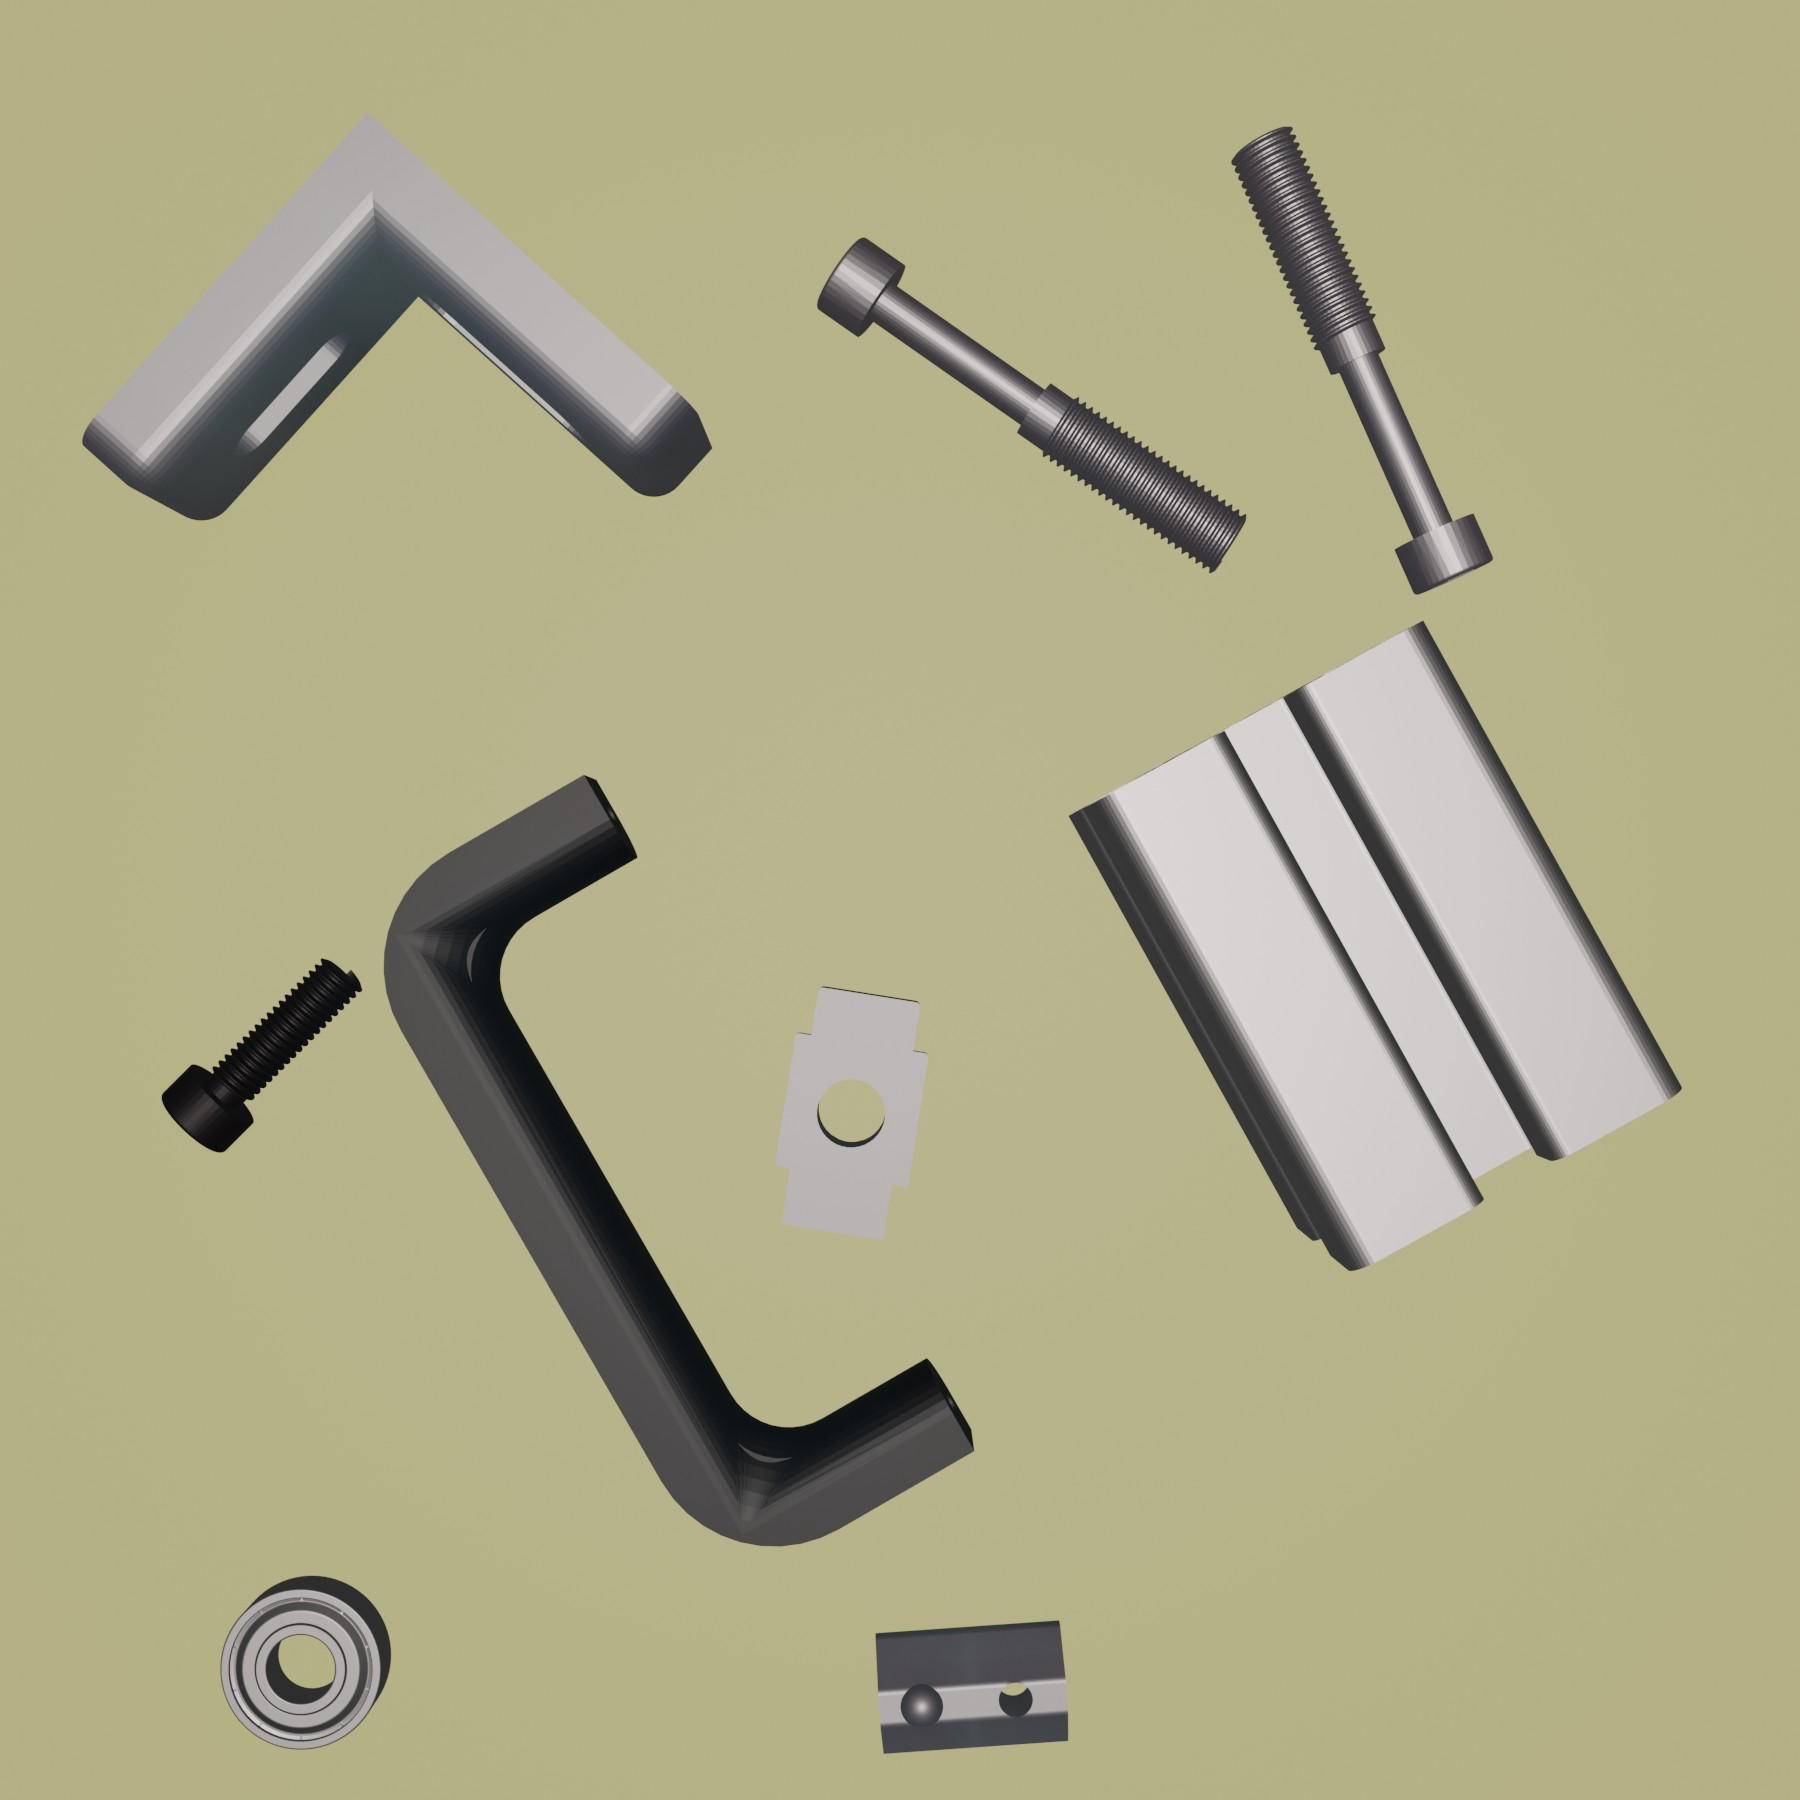Aluminium Extension: (1065, 620, 1683, 1273)
Ball Bearing: (216, 1574, 392, 1754)
Multiwinkel: (79, 107, 715, 523)
Pull Handle: (381, 775, 977, 1551)
Shoulder Socket Head Cap Screw: (814, 236, 1248, 575), (1226, 124, 1497, 598)
Socket Head Cap Screw: (158, 954, 363, 1157)
T Nut Square: (766, 981, 936, 1241)
T Spring Nut: (874, 1615, 1073, 1759)
